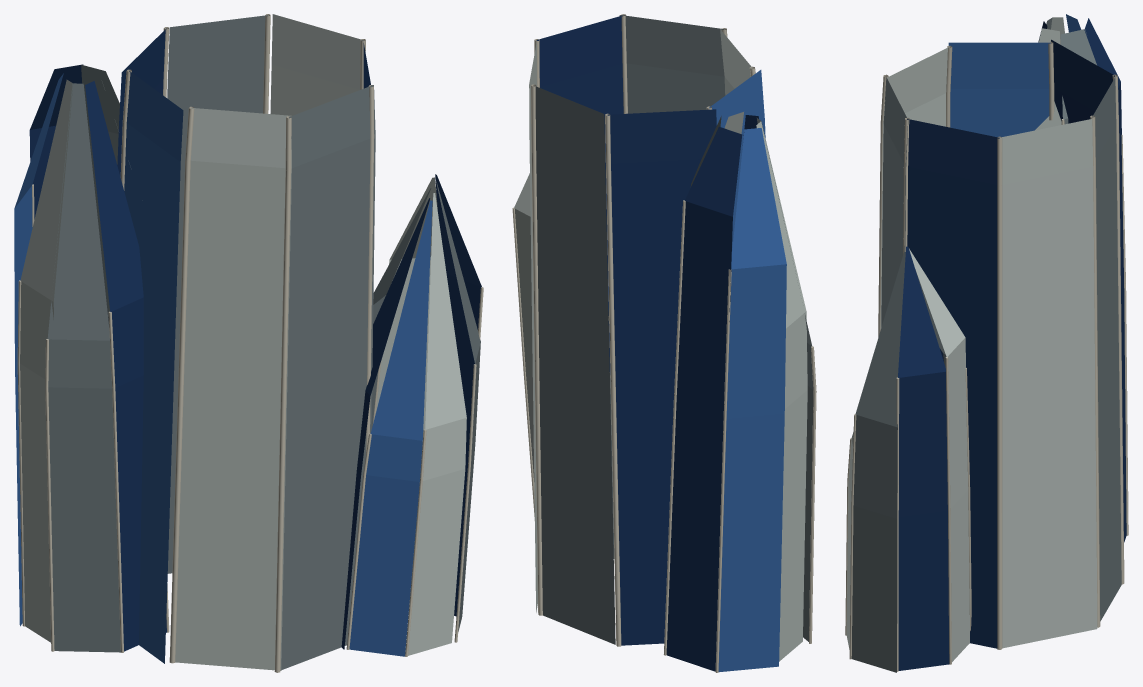
Rendered from wreck_cryo_1.glb.
3 views of the same model, side by side, from view 1: azimuth 30°, elevation 25°; view 2: azimuth 150°, elevation 25°; view 3: azimuth 270°, elevation 25° (orthographic). The views are drawn at different scales.
Parts seen in each view (by area): view 1: wreck_cryo_1; view 2: wreck_cryo_1; view 3: wreck_cryo_1.
Boxes of the visible parts, bbox=[...] form: wreck_cryo_1: bbox=[14, 14, 483, 672]; wreck_cryo_1: bbox=[512, 14, 816, 672]; wreck_cryo_1: bbox=[845, 14, 1128, 672].
Size of the model in its own units: 2.94 by 4.15 by 2.07.
